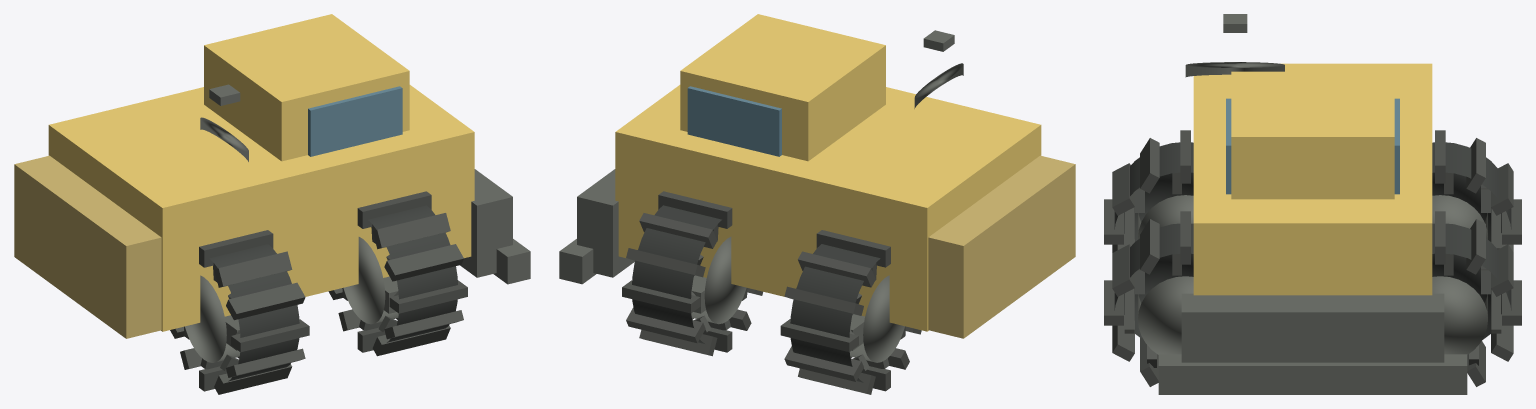
The model's file is landfill-compactor-original-v1.glb.
The picture shows the model from 3 angles, left to right: view 1: azimuth 30°, elevation 25°; view 2: azimuth 150°, elevation 25°; view 3: azimuth 270°, elevation 25°; orthographic projection. The views are drawn at different scales.
Parts seen in each view (by area): view 1: Original Landfill Compactor; view 2: Original Landfill Compactor; view 3: Original Landfill Compactor.
Boxes of the visible parts, box(x1,y1,x2,y2) form: Original Landfill Compactor: box(14, 14, 530, 394); Original Landfill Compactor: box(559, 14, 1075, 394); Original Landfill Compactor: box(1104, 14, 1521, 394).
Size of the model in its own units: 4.71 by 3.14 by 4.2.
